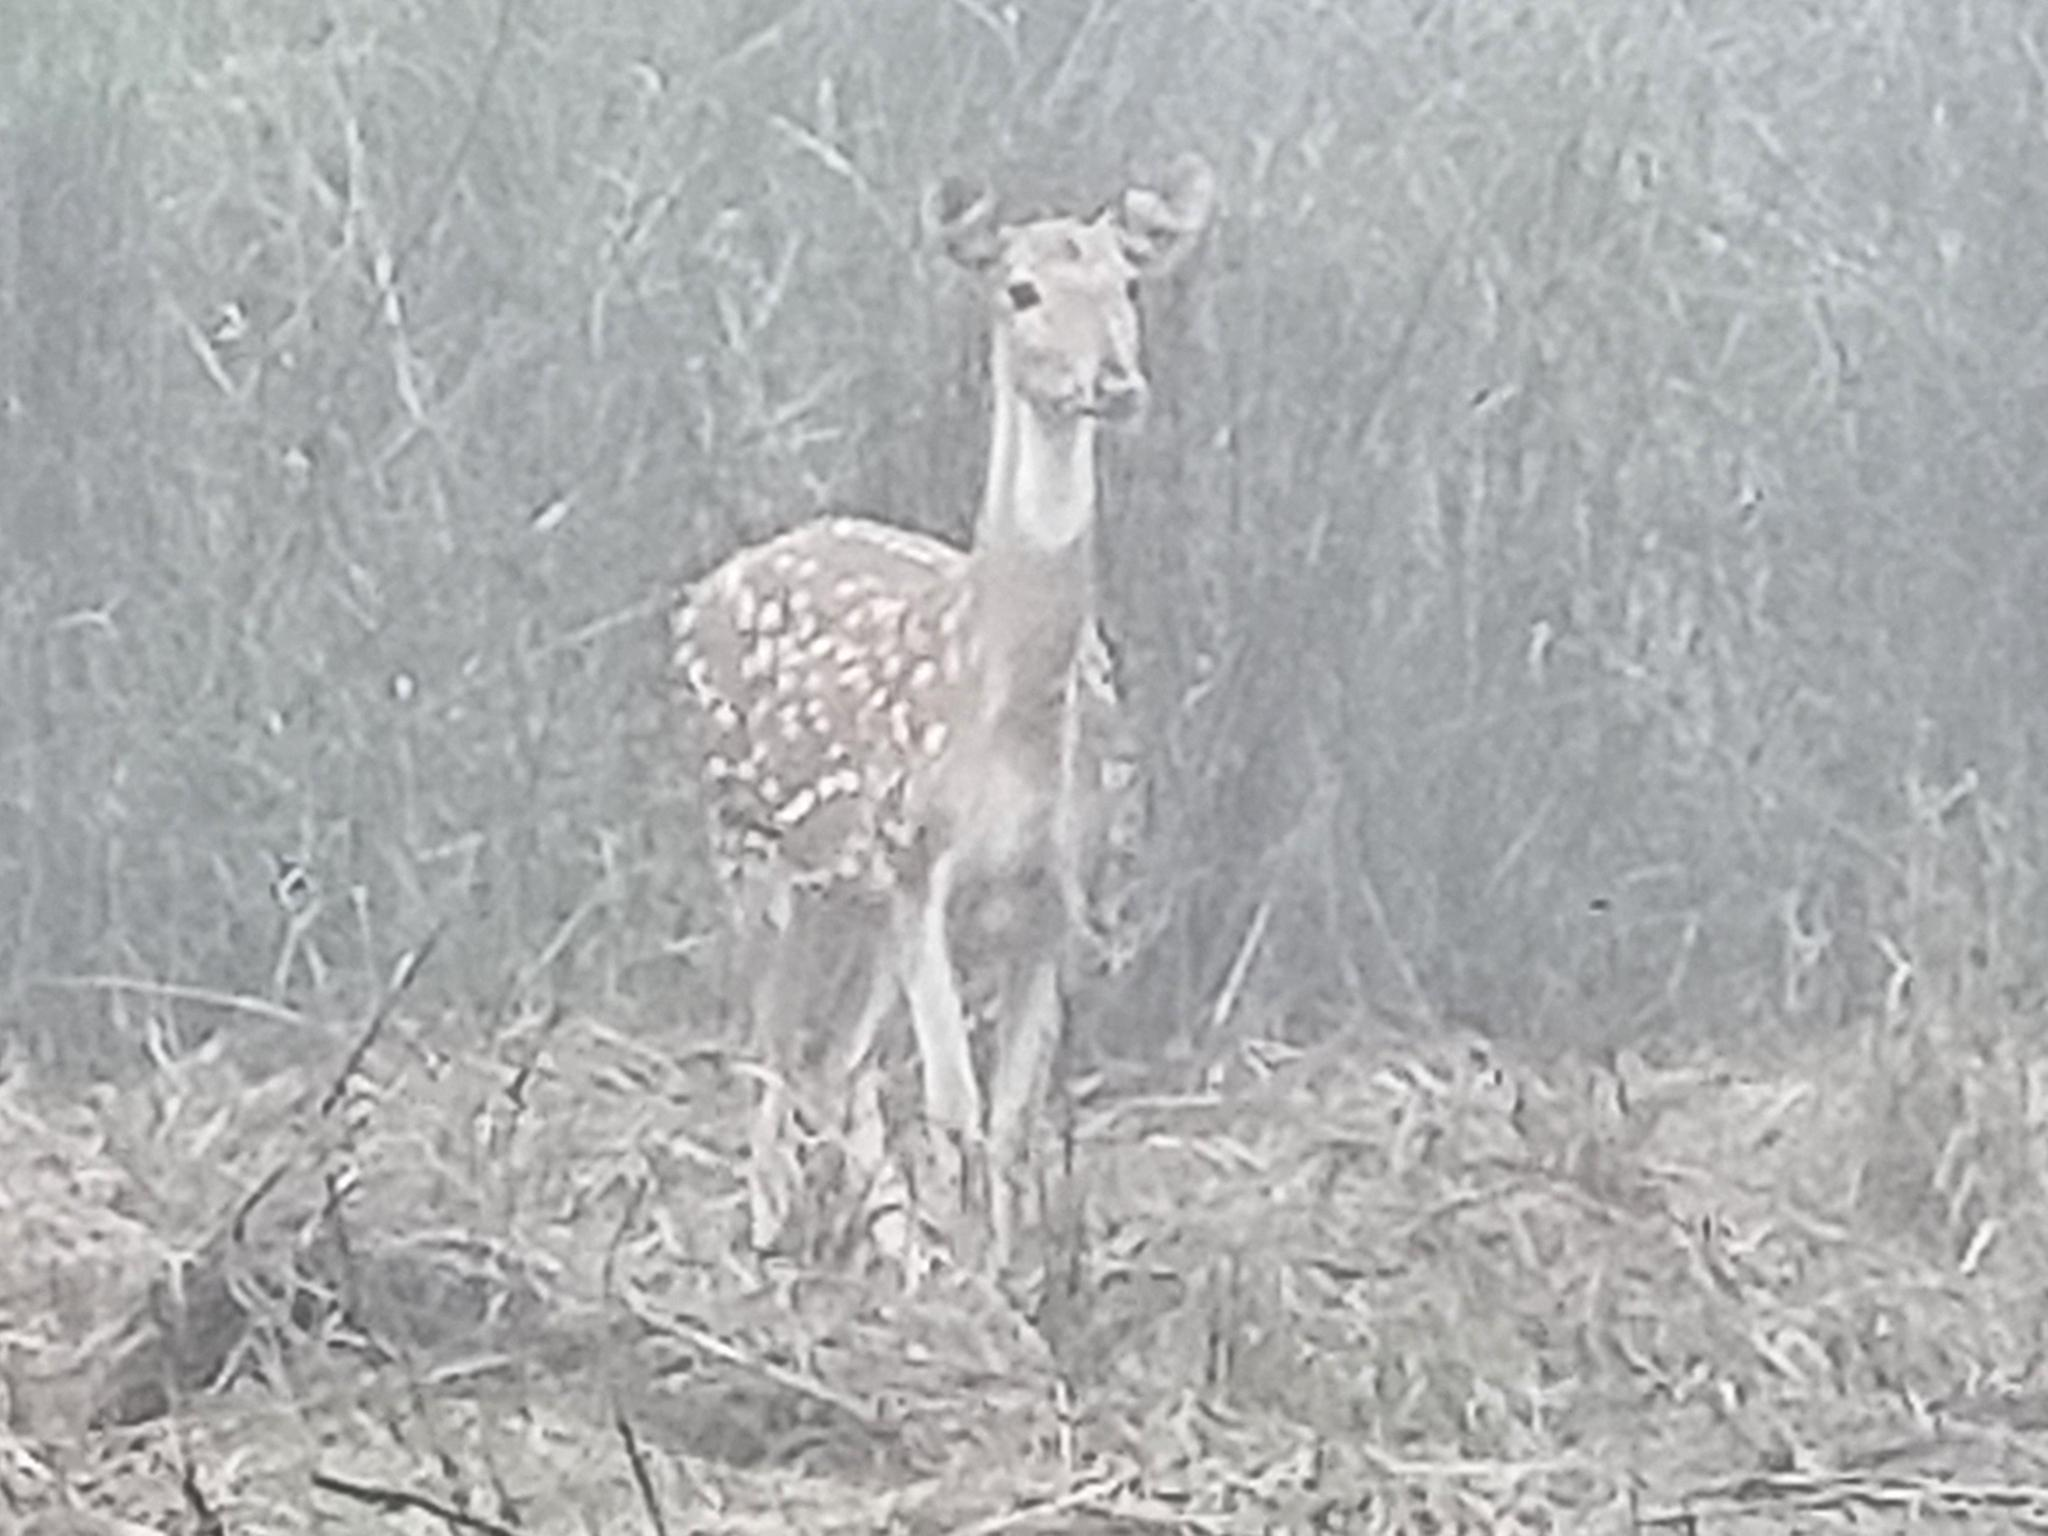Deer: (669, 158, 1214, 1268)
